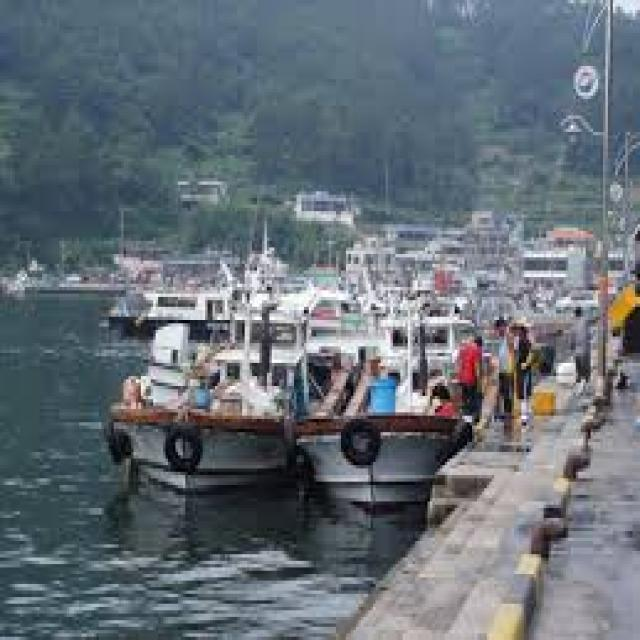Ship: (103, 318, 308, 500), (286, 331, 481, 516)
